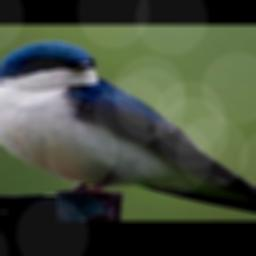Swallow: (0, 39, 256, 220)
